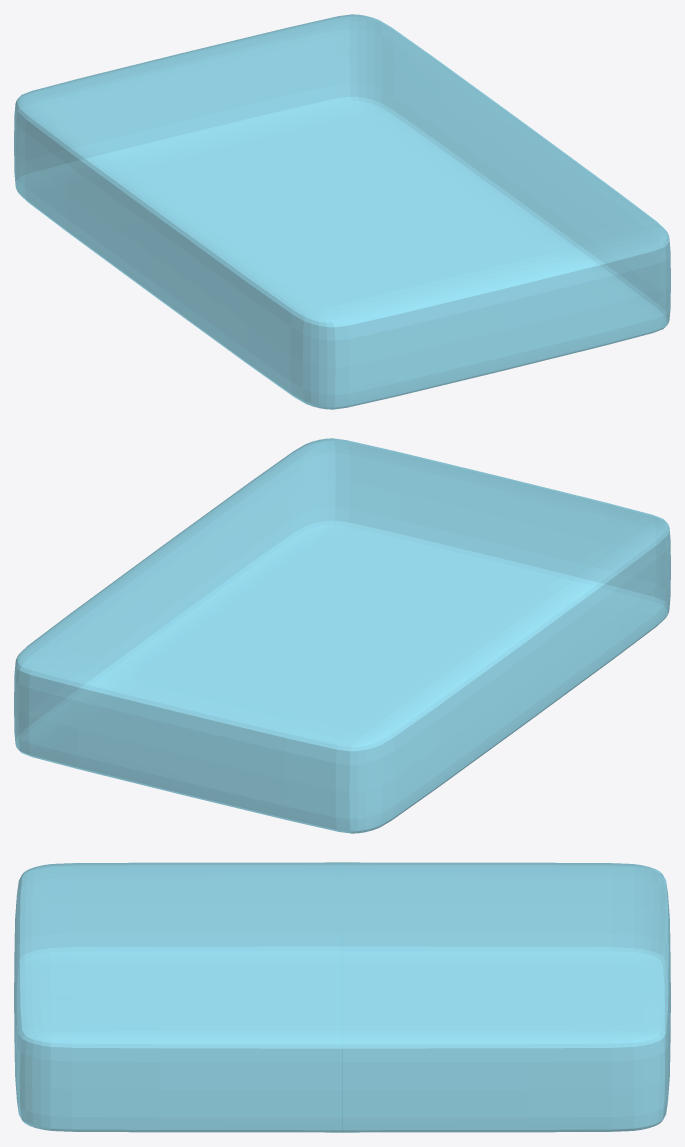
File: jalan lebar licin.fbx
3 renders of one model, top to bottom at view 1: azimuth 30°, elevation 25°; view 2: azimuth 150°, elevation 25°; view 3: azimuth 270°, elevation 25°, orthographic.
Visible parts, largest first — view 1: Cube.015; view 2: Cube.015; view 3: Cube.015.
Part boxes in pixels (x1,y1,x2,y2): Cube.015: (14, 14, 670, 409); Cube.015: (14, 438, 670, 833); Cube.015: (14, 862, 670, 1132).
Bounding box in the file's own units: 1598 × 400 × 2397.
